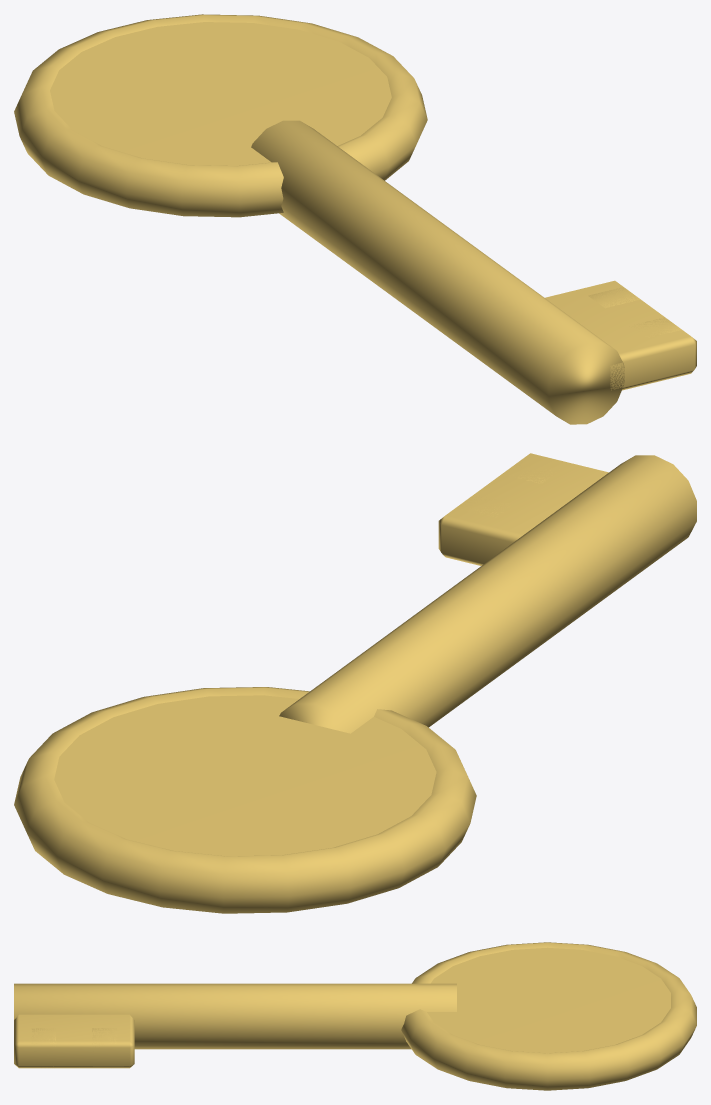
Rendered from castell-key.glb.
3 views of the same model, one above another, from view 1: azimuth 30°, elevation 25°; view 2: azimuth 150°, elevation 25°; view 3: azimuth 270°, elevation 25° (orthographic). The views are drawn at different scales.
Parts seen in each view (by area): view 1: CastellKeyMesh; view 2: CastellKeyMesh; view 3: CastellKeyMesh.
Boxes of the visible parts, x1,y1,x2,y2 form: CastellKeyMesh: (14, 14, 696, 424); CastellKeyMesh: (14, 453, 696, 913); CastellKeyMesh: (14, 942, 696, 1090).
Size of the model in its own units: 0.06 by 0.013 by 0.1357.
